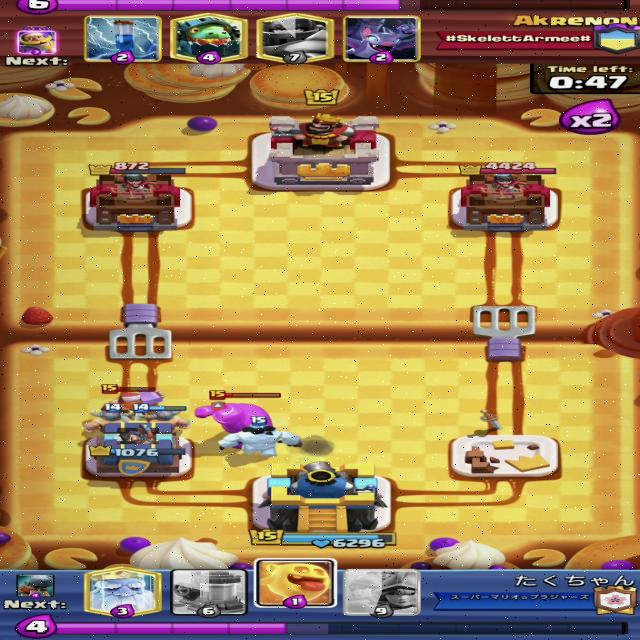Enemy-ElixirGolem: (194, 389, 284, 449)
Enemy-Lumberjack: (99, 383, 174, 420)
Player-EliteBarbarian: (132, 402, 194, 440), (84, 402, 142, 438)
Player-IceGolem: (217, 414, 306, 459)
